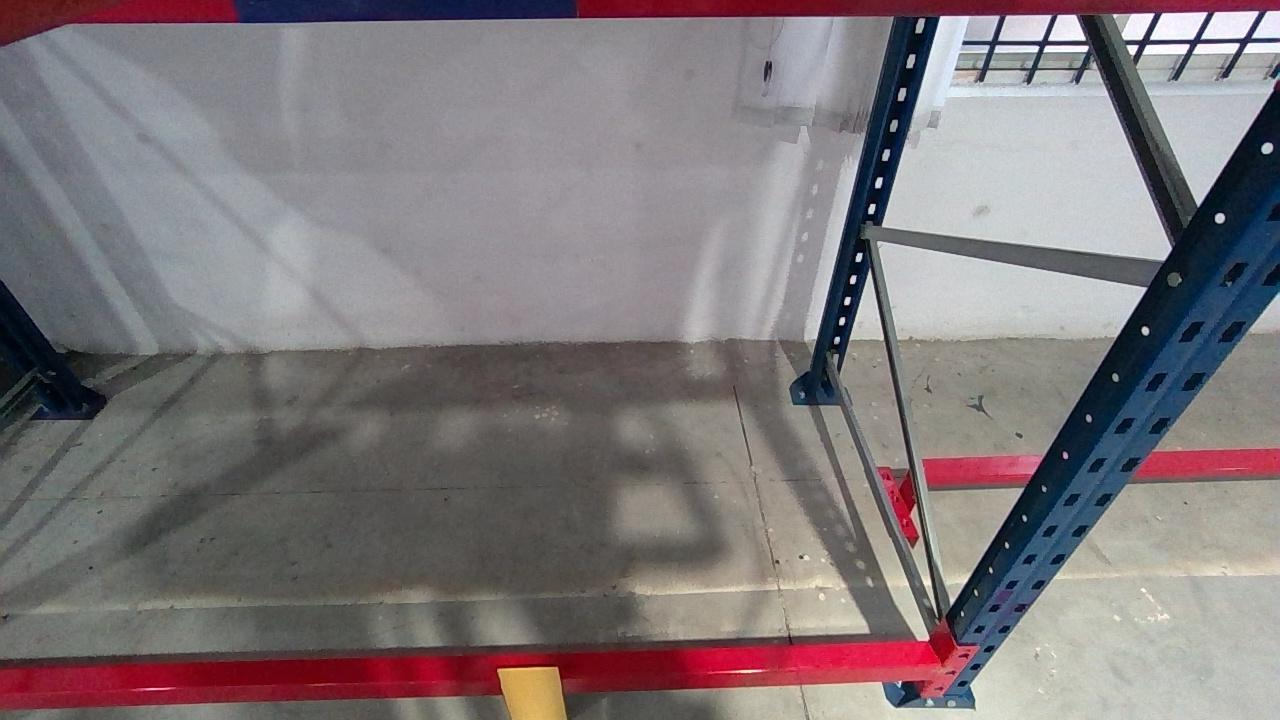h_rack: (2, 662, 944, 712)
orange_strip: (495, 666, 566, 719)
